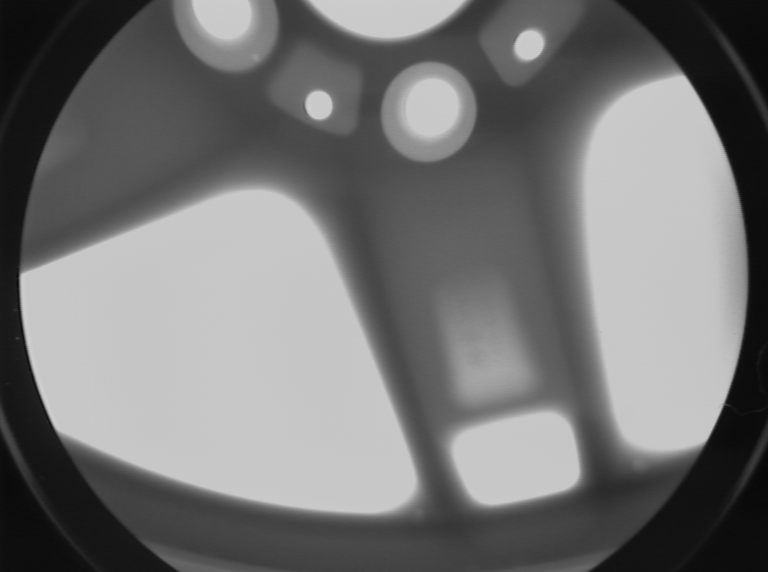defect: (250, 51, 267, 69)
